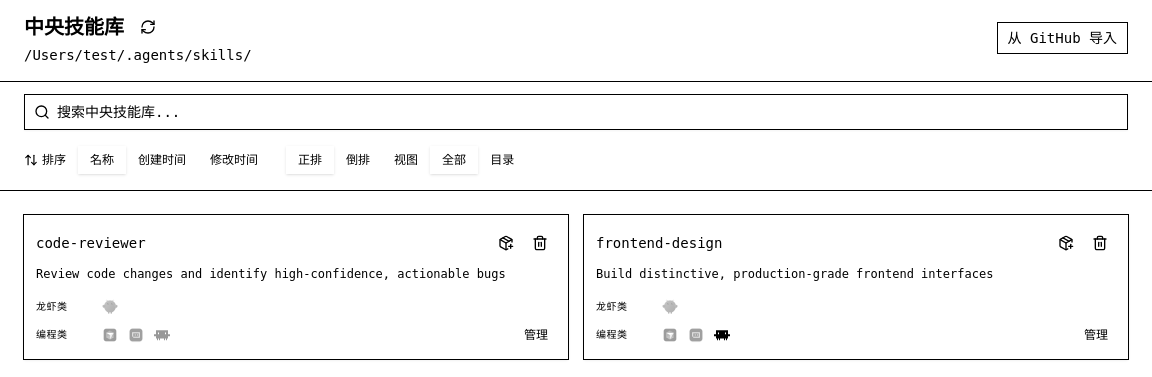
Test: CentralSkillsView › restores all skills when search is cleared
In the field with placeholder "搜索中央技能库...": point(576, 112) x1=24 y1=94 x2=1128 y2=130, type "frontend"
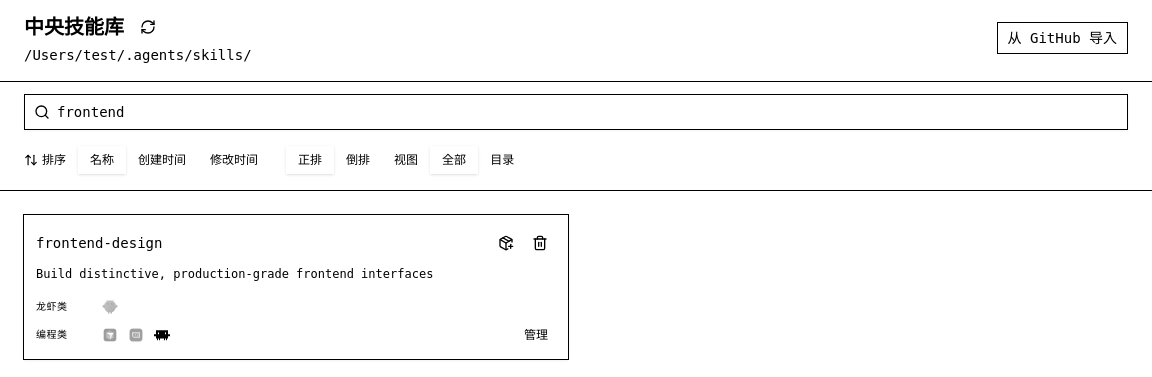
Clear the field with placeholder "搜索中央技能库...": point(576, 112) x1=24 y1=94 x2=1128 y2=130
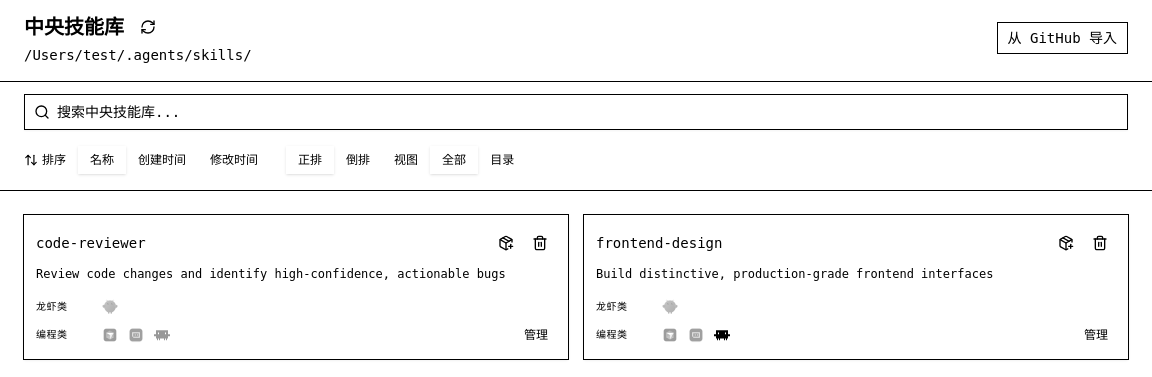
Expected: the button "frontend-design" is shown, x1=596 y1=233 x2=1042 y2=253
Result: the button "code-reviewer" is shown at x1=36 y1=233 x2=482 y2=253
